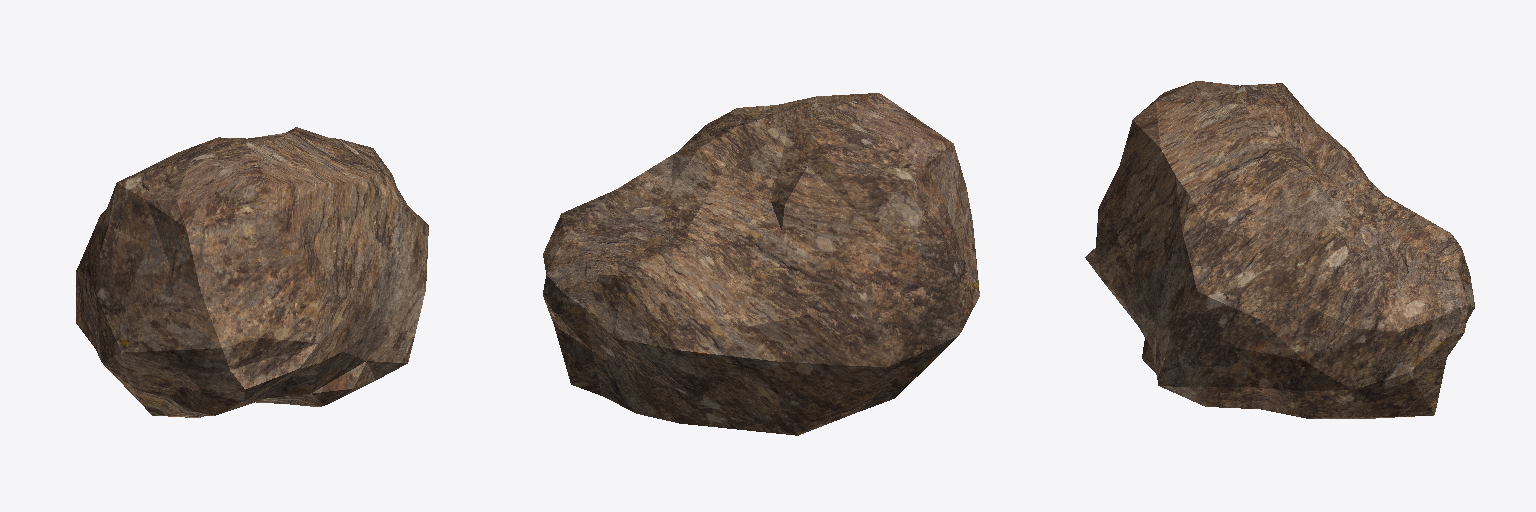
3 views of the same model, side by side, from view 1: azimuth 30°, elevation 25°; view 2: azimuth 150°, elevation 25°; view 3: azimuth 270°, elevation 25° (orthographic).
Visible parts, largest first — view 1: Cliff_Rock_Model; view 2: Cliff_Rock_Model; view 3: Cliff_Rock_Model.
Part boxes in pixels (x1,y1,x2,y2): Cliff_Rock_Model: (76, 127, 428, 417); Cliff_Rock_Model: (543, 93, 979, 435); Cliff_Rock_Model: (1085, 81, 1474, 418).
Size of the model in its own units: 106 by 79.6 by 103.
1 materials, 1 textured.